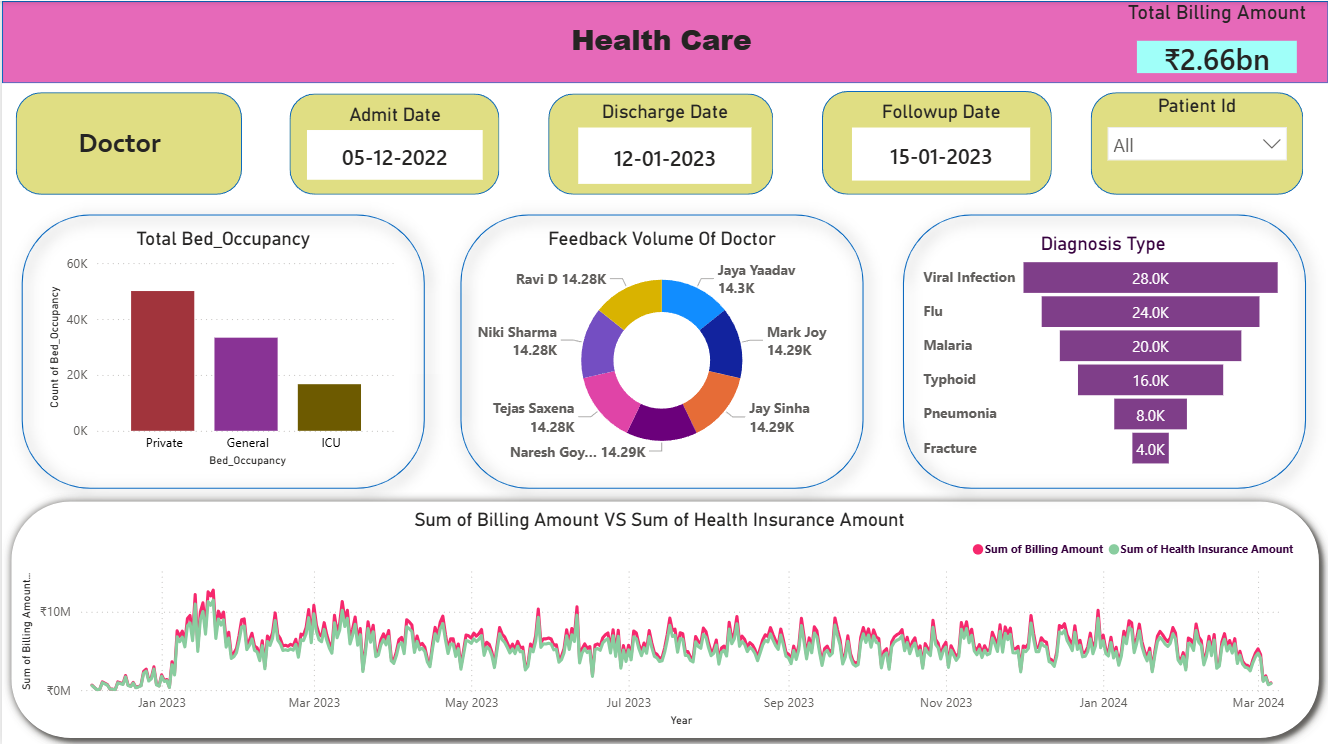

The dashboard page shown, as its layout file describes it:
{"tool":"powerbi","page":{"name":"Overview","canvas":[1280,720],"ordinal":0},"visuals":[{"type":"shape","box":[0,0,1280.3,79.6],"z":0},{"type":"shape","box":[13.3,88.1,218.4,98.9],"z":1000},{"type":"shape","box":[277.5,89.3,202.7,97.7],"z":2000},{"type":"shape","box":[527.2,89.3,217.2,97.7],"z":3000},{"type":"shape","box":[1050.8,88.1,205.1,98.9],"z":4000},{"type":"textbox","box":[68.8,115.8,108.6,50.7],"z":5000},{"type":"actionButton","box":[56.7,107.4,132.7,59.1],"z":6000},{"type":"textbox","box":[469.3,13.3,334.2,55.5],"z":7000},{"type":"slicer","title":"Patient Id","fields":{"Values":["Sheet1.Patient_ID"]},"box":[1056.8,90.5,193,101.3],"z":8000},{"type":"shape","box":[791.4,86.9,222,100.1],"z":9000},{"type":"cardVisual","title":"Admit Date","fields":{"Data":["Min(Sheet1.Admit_Date)"]},"box":[289.5,98.9,179.8,79.6],"z":10000},{"type":"cardVisual","title":"Discharge Date","fields":{"Data":["Min(Sheet1.Discharge_Date)"]},"box":[551.3,96.5,177.3,85.7],"z":11000},{"type":"cardVisual","title":"Followup Date","fields":{"Data":["Min(Sheet1.Followup Date)"]},"box":[815.6,96.5,182.2,82],"z":12000},{"type":"shape","box":[0,187,427.1,302.8],"z":13000},{"type":"cardVisual","title":"Total Billing Amount","fields":{"Data":["Sum(Sheet1.Billing Amount)"]},"box":[1089.4,2.4,188.2,86.9],"z":14000},{"type":"columnChart","title":"Total Bed_Occupancy ","fields":{"Category":["Sheet1.Bed_Occupancy"],"Y":["CountNonNull(Sheet1.Bed_Occupancy)"]},"box":[39.8,218.4,347.5,236.5],"z":15000},{"type":"shape","box":[423.5,187,427.1,302.8],"z":16000},{"type":"donutChart","title":"Feedback Volume Of Doctor","fields":{"Category":["Sheet1.Doctor"],"Y":["CountNonNull(Sheet1.Doctor)"]},"box":[458.4,218.4,357.1,236.5],"z":17000},{"type":"shape","box":[0,474.1,1280,246.1],"z":18000},{"type":"shape","box":[850.5,187,427.1,302.8],"z":19000},{"type":"funnel","title":"Diagnosis Type","fields":{"Category":["Sheet1.Diagnosis"],"Y":["CountNonNull(Sheet1.Diagnosis)"]},"box":[884.3,223.2,357.1,231.6],"z":20000},{"type":"lineChart","title":"Sum of Billing Amount VS Sum of Health Insurance Amount","fields":{"Y":["Sum(Sheet1.Billing Amount)","Sum(Sheet1.Health Insurance Amount)"],"Category":["Sheet1.Admit_Date.Variation.Date Hierarchy.Year","Sheet1.Admit_Date.Variation.Date Hierarchy.Quarter","Sheet1.Admit_Date.Variation.Date Hierarchy.Month","Sheet1.Admit_Date.Variation.Date Hierarchy.Day"]},"box":[13.3,489.8,1242.6,214.7],"z":21000}]}

Visuals, with their boxes in screenshot pixels (x1, y1, x2, y2), scaled from the page's 1280x720 canvas onto the 1328x744 screenshot:
shape: (0,0,1327,82)
shape: (14,91,240,193)
shape: (288,92,498,193)
shape: (547,92,772,193)
shape: (1090,91,1303,193)
textbox: (71,120,184,172)
actionButton: (59,111,197,172)
textbox: (487,14,834,71)
"Patient Id" slicer: (1096,94,1297,198)
shape: (821,90,1051,193)
"Admit Date" cardVisual: (300,102,487,184)
"Discharge Date" cardVisual: (572,100,756,188)
"Followup Date" cardVisual: (846,100,1035,184)
shape: (0,193,443,506)
"Total Billing Amount" cardVisual: (1130,2,1326,92)
"Total Bed_Occupancy " columnChart: (41,226,402,470)
shape: (439,193,882,506)
"Feedback Volume Of Doctor" donutChart: (476,226,846,470)
shape: (0,490,1327,743)
shape: (882,193,1326,506)
"Diagnosis Type" funnel: (917,231,1288,470)
"Sum of Billing Amount VS Sum of Health Insurance Amount" lineChart: (14,506,1303,728)
